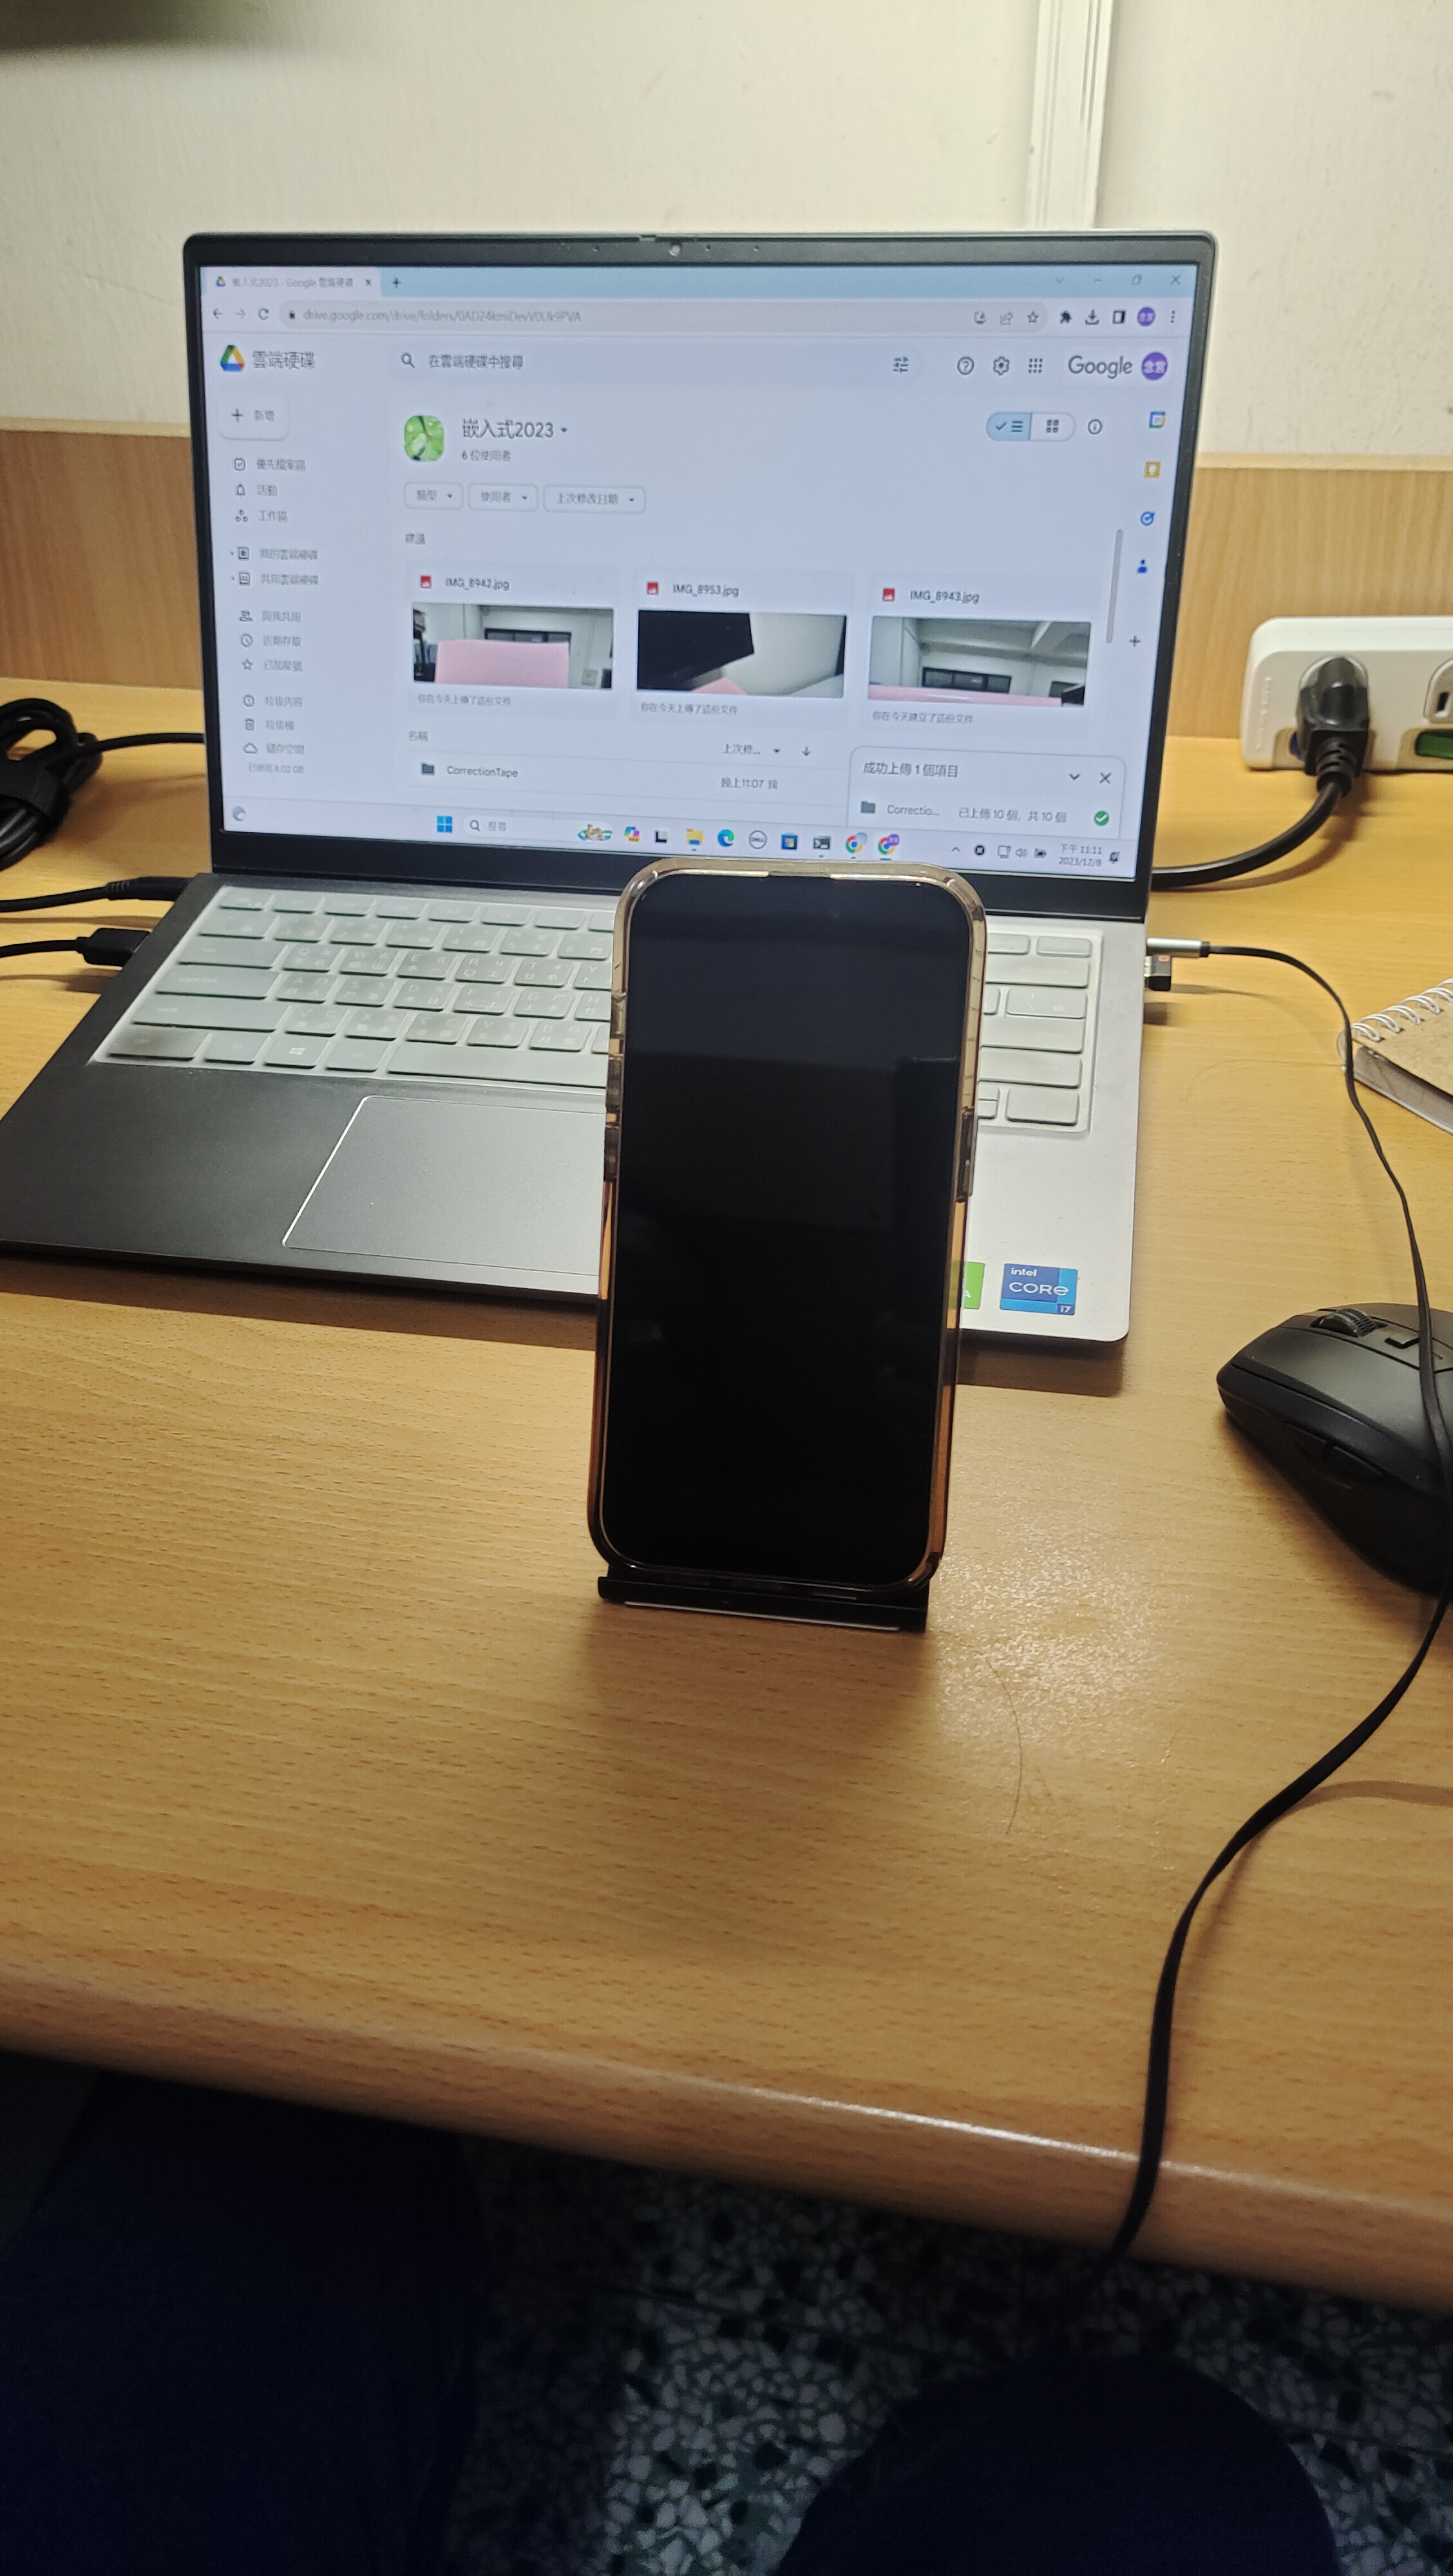iphone: (589, 853, 989, 1603)
